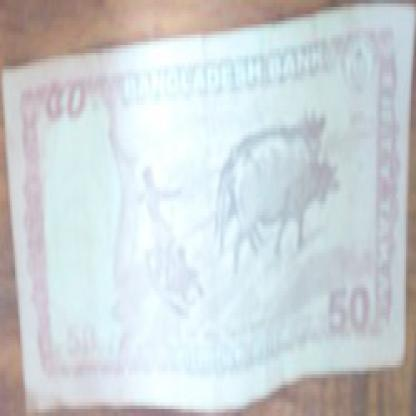Fifty taka: (314, 267, 380, 350), (40, 80, 96, 135)
